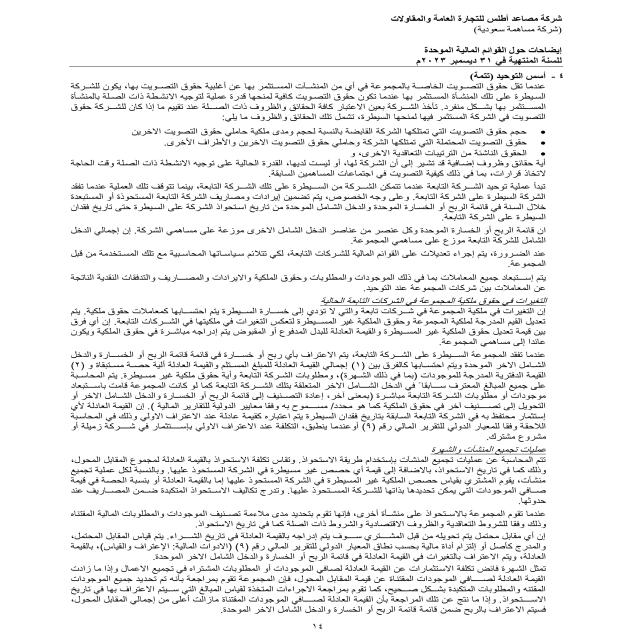notes: (401, 44, 571, 55)
text: (43, 69, 561, 612)
